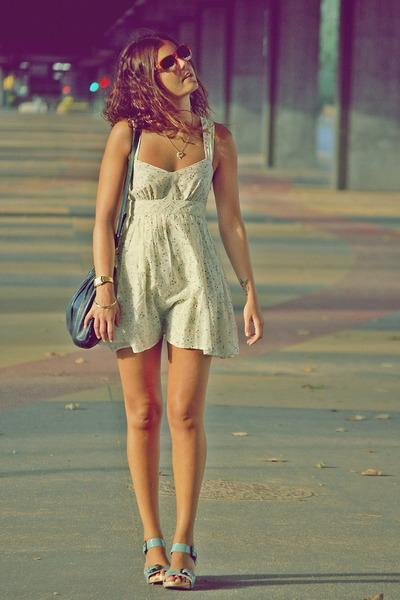bag: (52, 276, 107, 348)
dress: (101, 122, 242, 361)
shoe: (144, 526, 196, 586)
sunglass: (149, 40, 177, 64)
